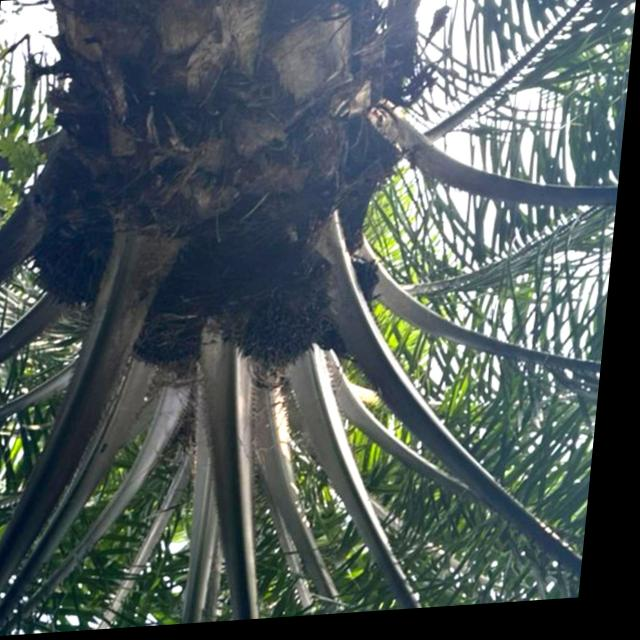unripe: (219, 251, 350, 387), (15, 198, 131, 318)
